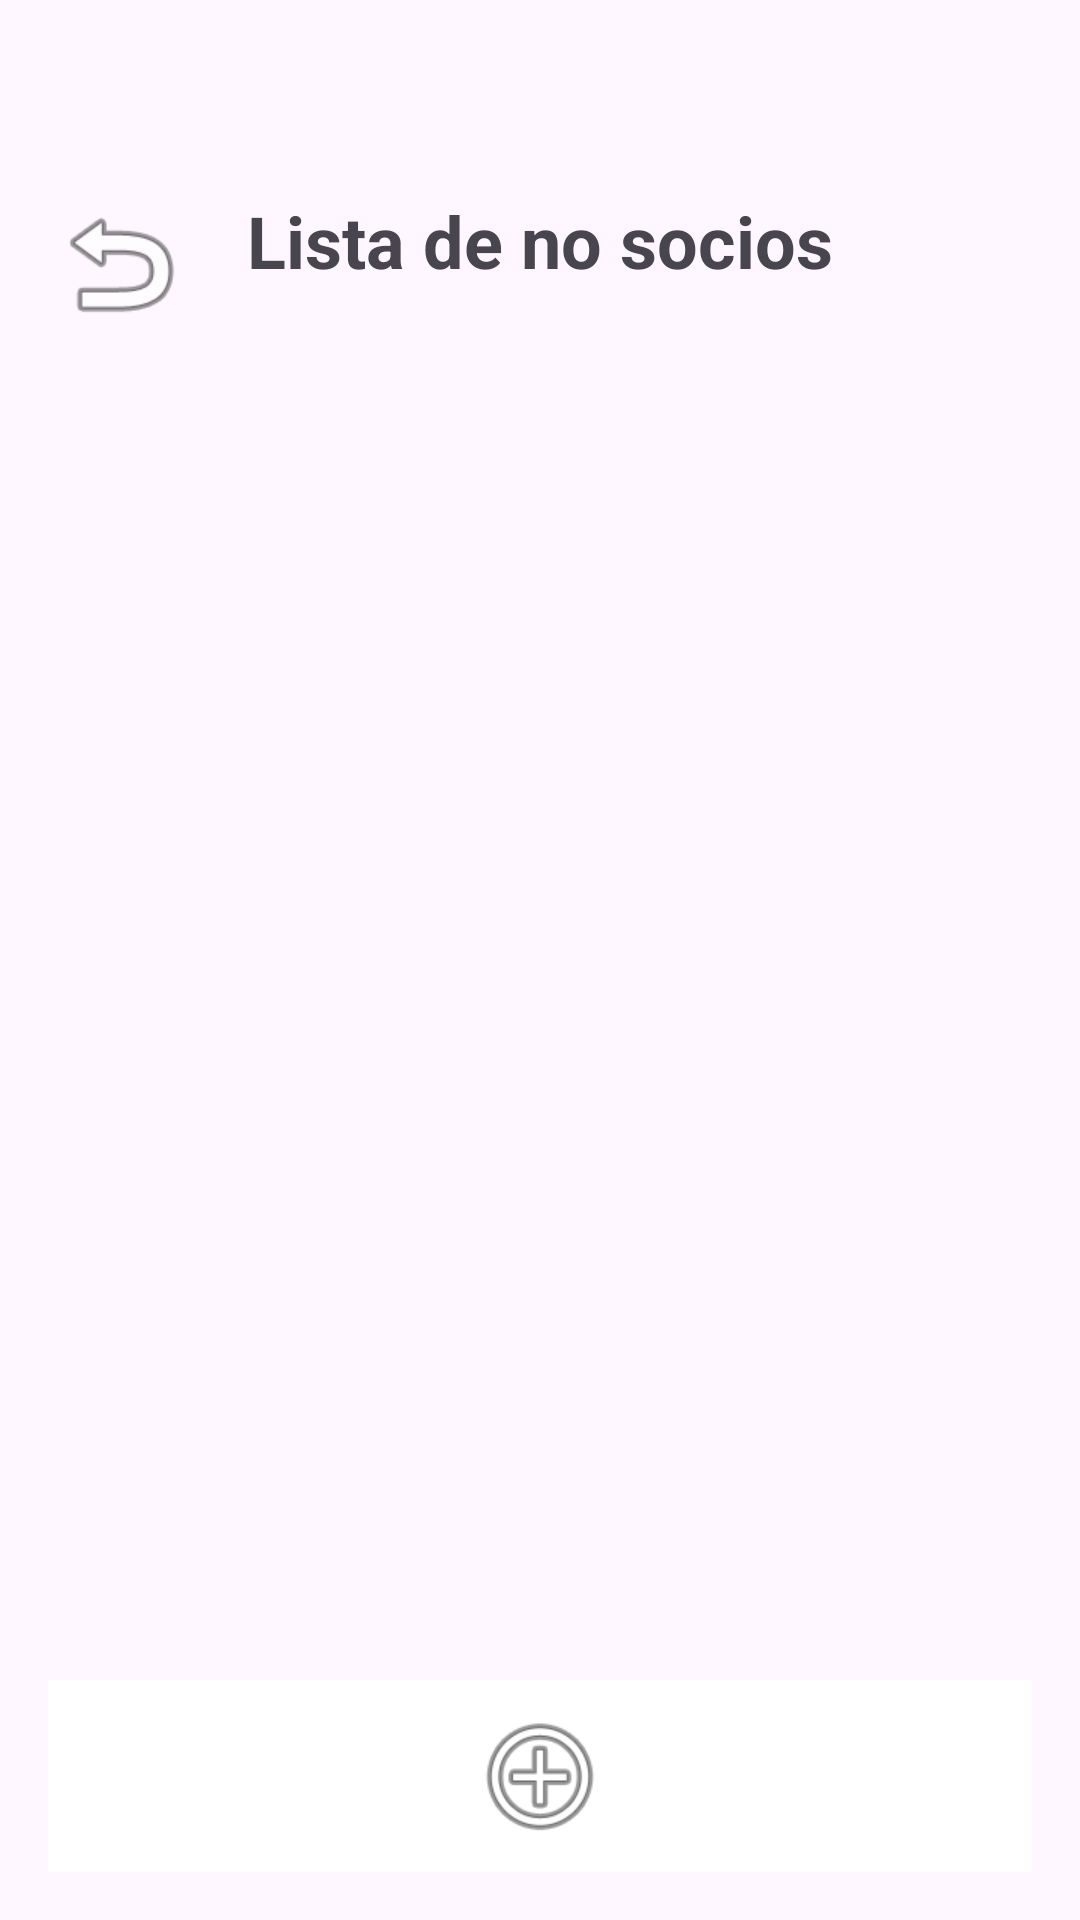

Screen size 1080 x 1920. Icon name, then its center in pixels as point (x, y):
Agregar: point (540, 1776)
Volver: point (122, 265)
